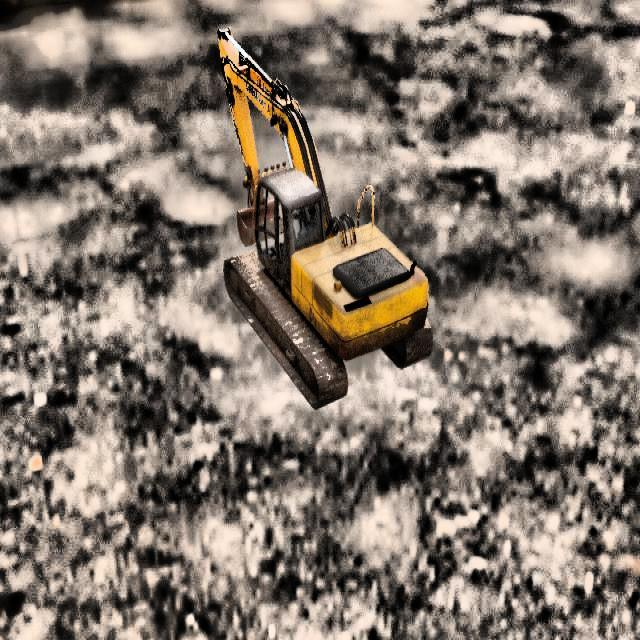excavator: (217, 26, 433, 410)
